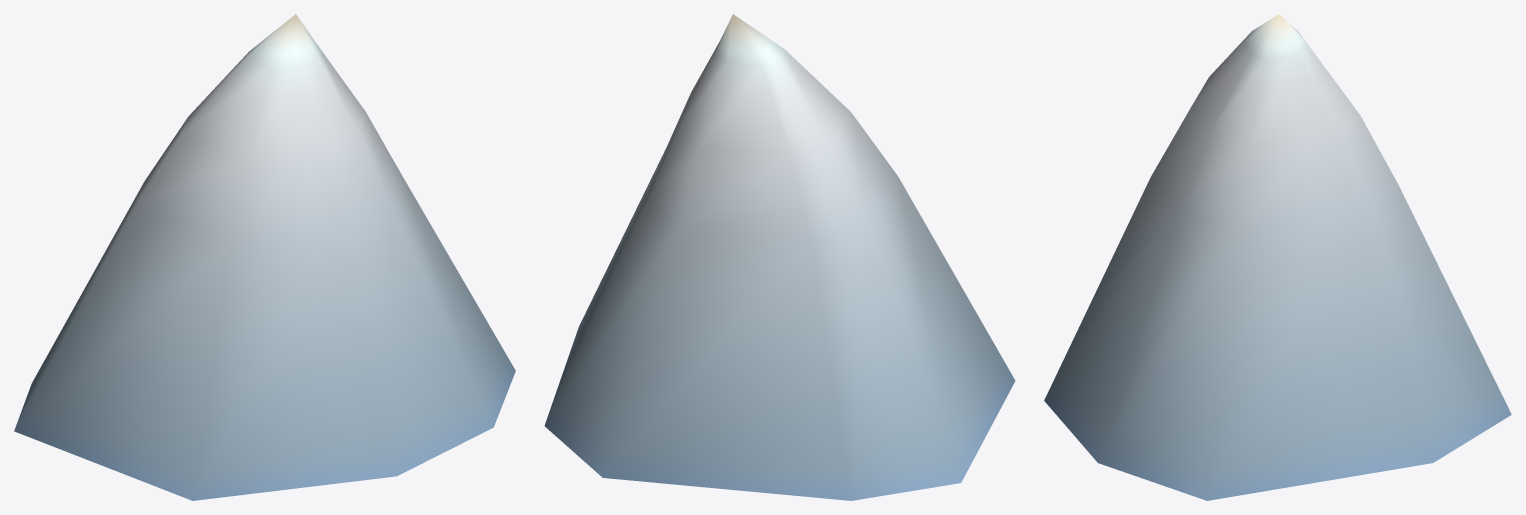
The model's file is MountainNPCTest.glb.
The picture shows the model from 3 angles, left to right: view 1: azimuth 30°, elevation 25°; view 2: azimuth 150°, elevation 25°; view 3: azimuth 270°, elevation 25°; orthographic projection. The views are drawn at different scales.
Parts seen in each view (by area): view 1: Mountain_NPC; view 2: Mountain_NPC; view 3: Mountain_NPC.
Boxes of the visible parts, bbox=[...] form: Mountain_NPC: bbox=[14, 14, 515, 500]; Mountain_NPC: bbox=[544, 14, 1015, 500]; Mountain_NPC: bbox=[1044, 14, 1511, 500].
Size of what is drawn, in the model's own units: 6.24 by 5.13 by 5.54.
Materials: 1 (1 with a texture image).
